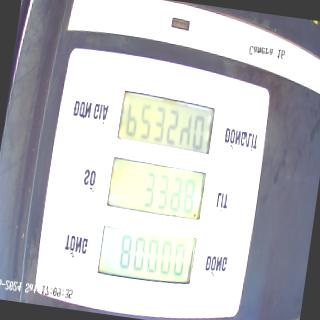screen: (95, 85, 218, 293)
